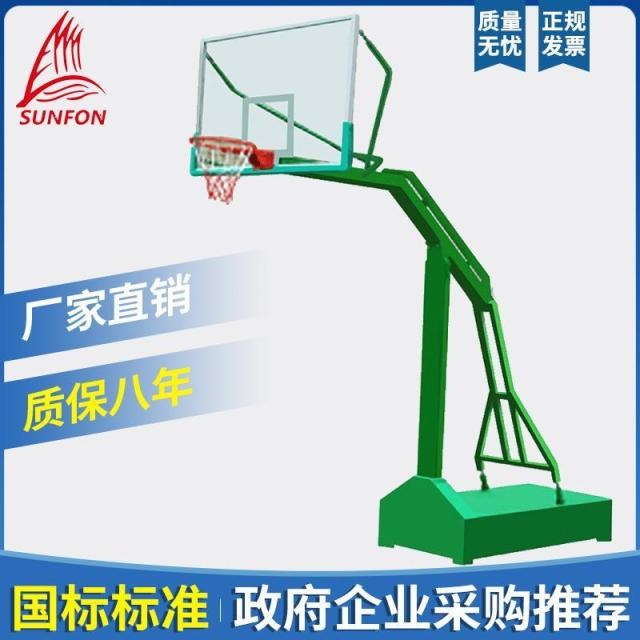rim: (186, 136, 256, 204)
